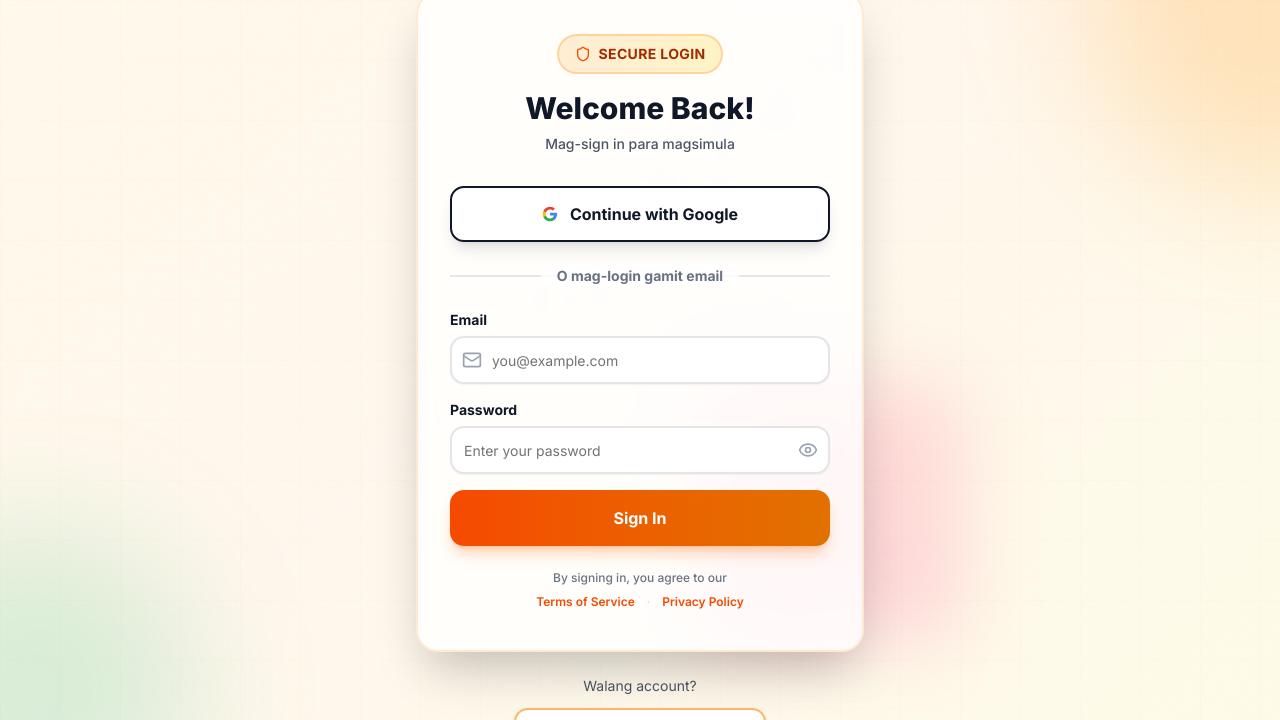
Test case: Email Login - LoginPage › shows friendly message on rate limit
(page scrolled)
Type "test@example.com" into the field labelled "Email" at (640, 360), box [450,336,830,384]
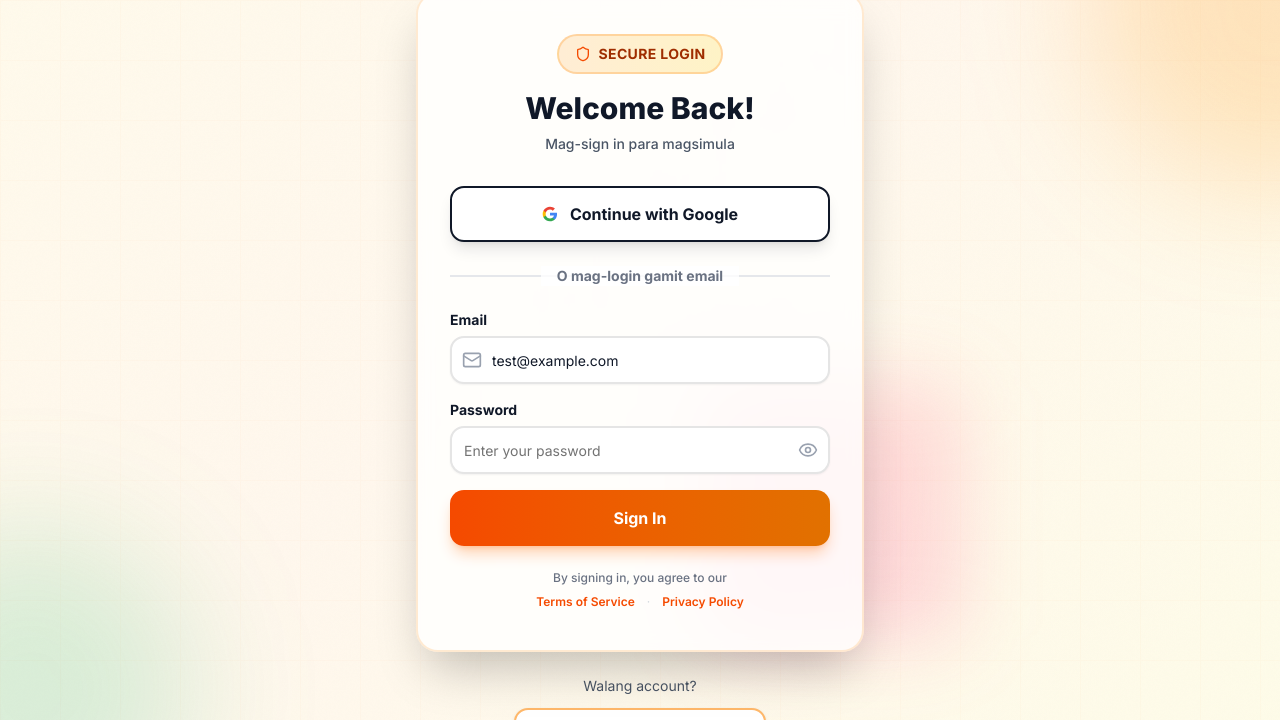
Type "password123" into the password field labelled "Password" at (640, 450), box [450,426,830,474]
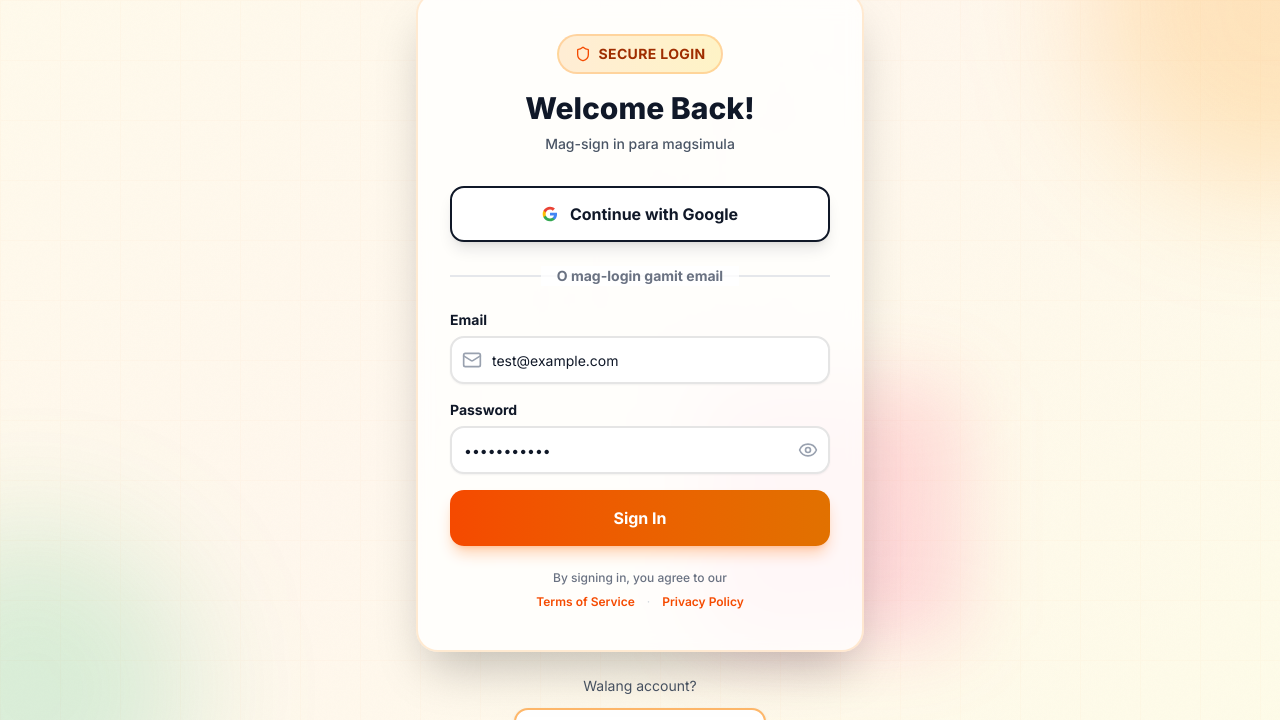
Click the button "Sign In" at (640, 518), box [450,490,830,546]
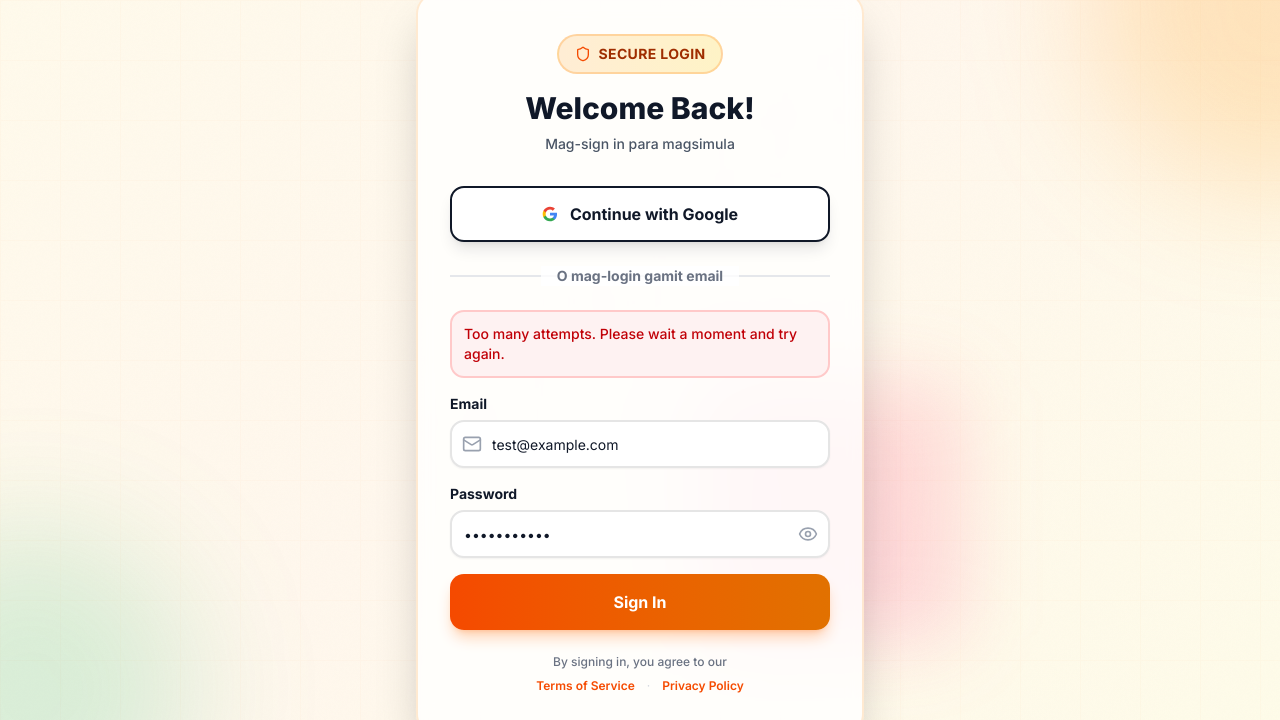
Expected: the text "Too many attempts. Please wait a moment and try again." is shown, [450,310,830,378]
